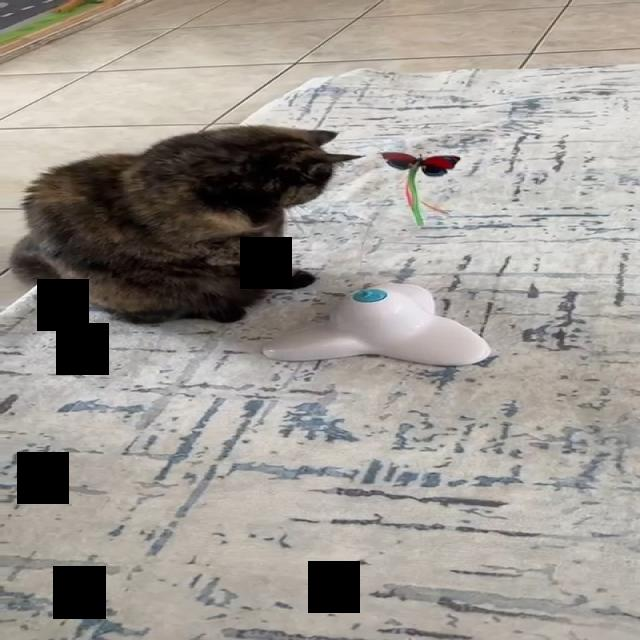authorized: (7, 123, 364, 324)
